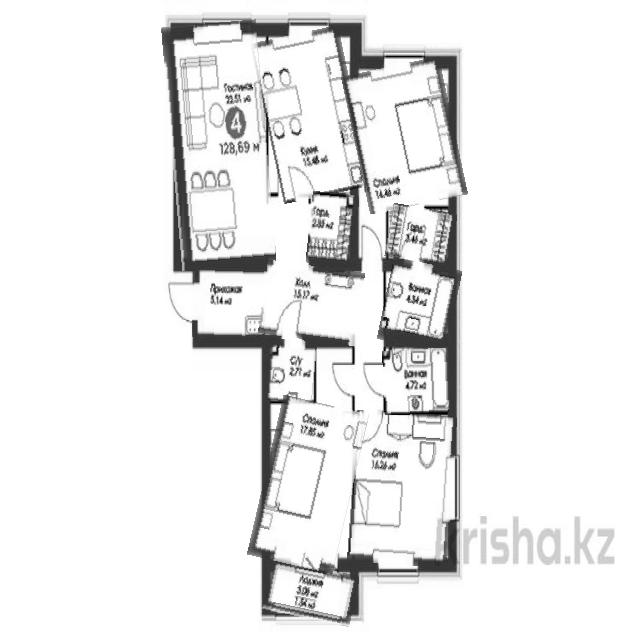balcony: (381, 260, 458, 350), (264, 563, 357, 623)
bathroom: (383, 348, 455, 415), (265, 339, 316, 402)
hallway: (261, 263, 363, 343), (193, 266, 263, 338)
kitchen: (258, 29, 364, 200)
living_room: (166, 21, 271, 270), (256, 399, 361, 571), (348, 61, 461, 210), (350, 412, 455, 567)
other: (386, 206, 455, 264), (307, 192, 358, 266)
